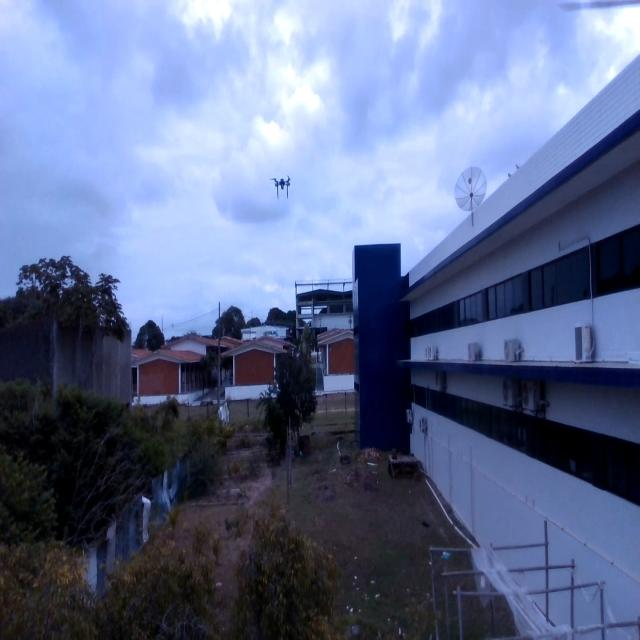-uav-: (267, 166, 295, 209)
